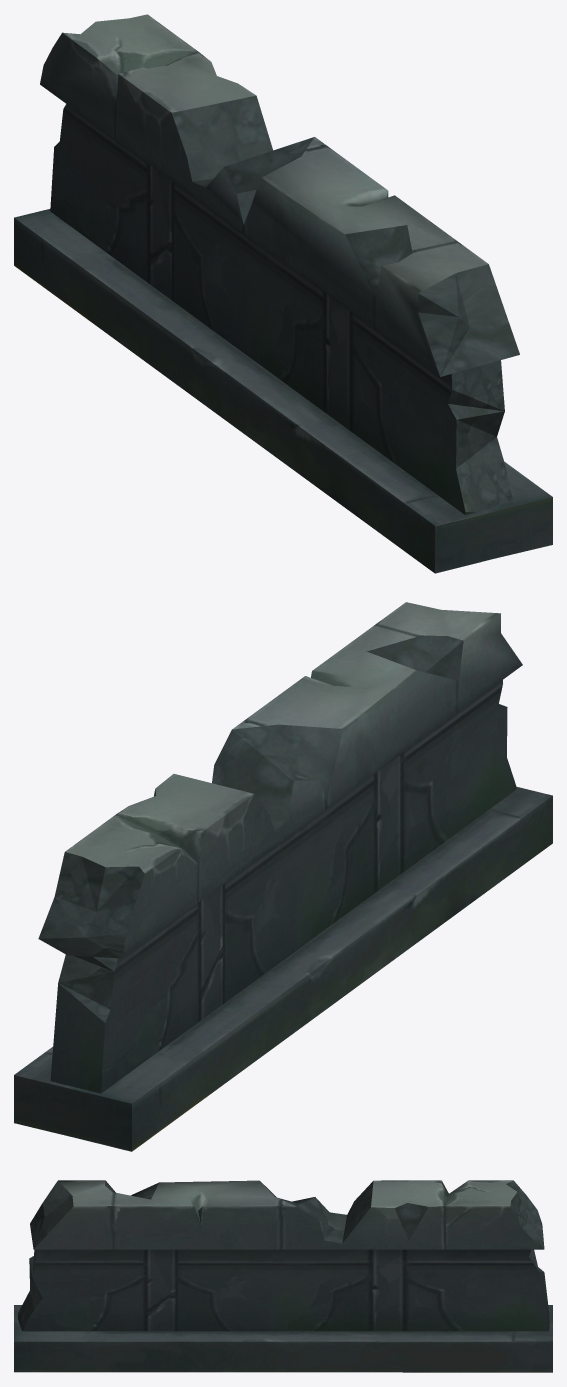
Rendered from Moba_qiang01.FBX.
3 renders of one model, top to bottom at view 1: azimuth 30°, elevation 25°; view 2: azimuth 150°, elevation 25°; view 3: azimuth 270°, elevation 25°, orthographic. The views are drawn at different scales.
Parts seen in each view (by area): view 1: Moba_qiang01; view 2: Moba_qiang01; view 3: Moba_qiang01.
Part boxes in pixels (x1,y1,x2,y2): Moba_qiang01: (14,14,552,573); Moba_qiang01: (14,602,552,1151); Moba_qiang01: (14,1180,552,1372).
Bounding box in the file's own units: 1.63 × 10.07 × 3.31.
